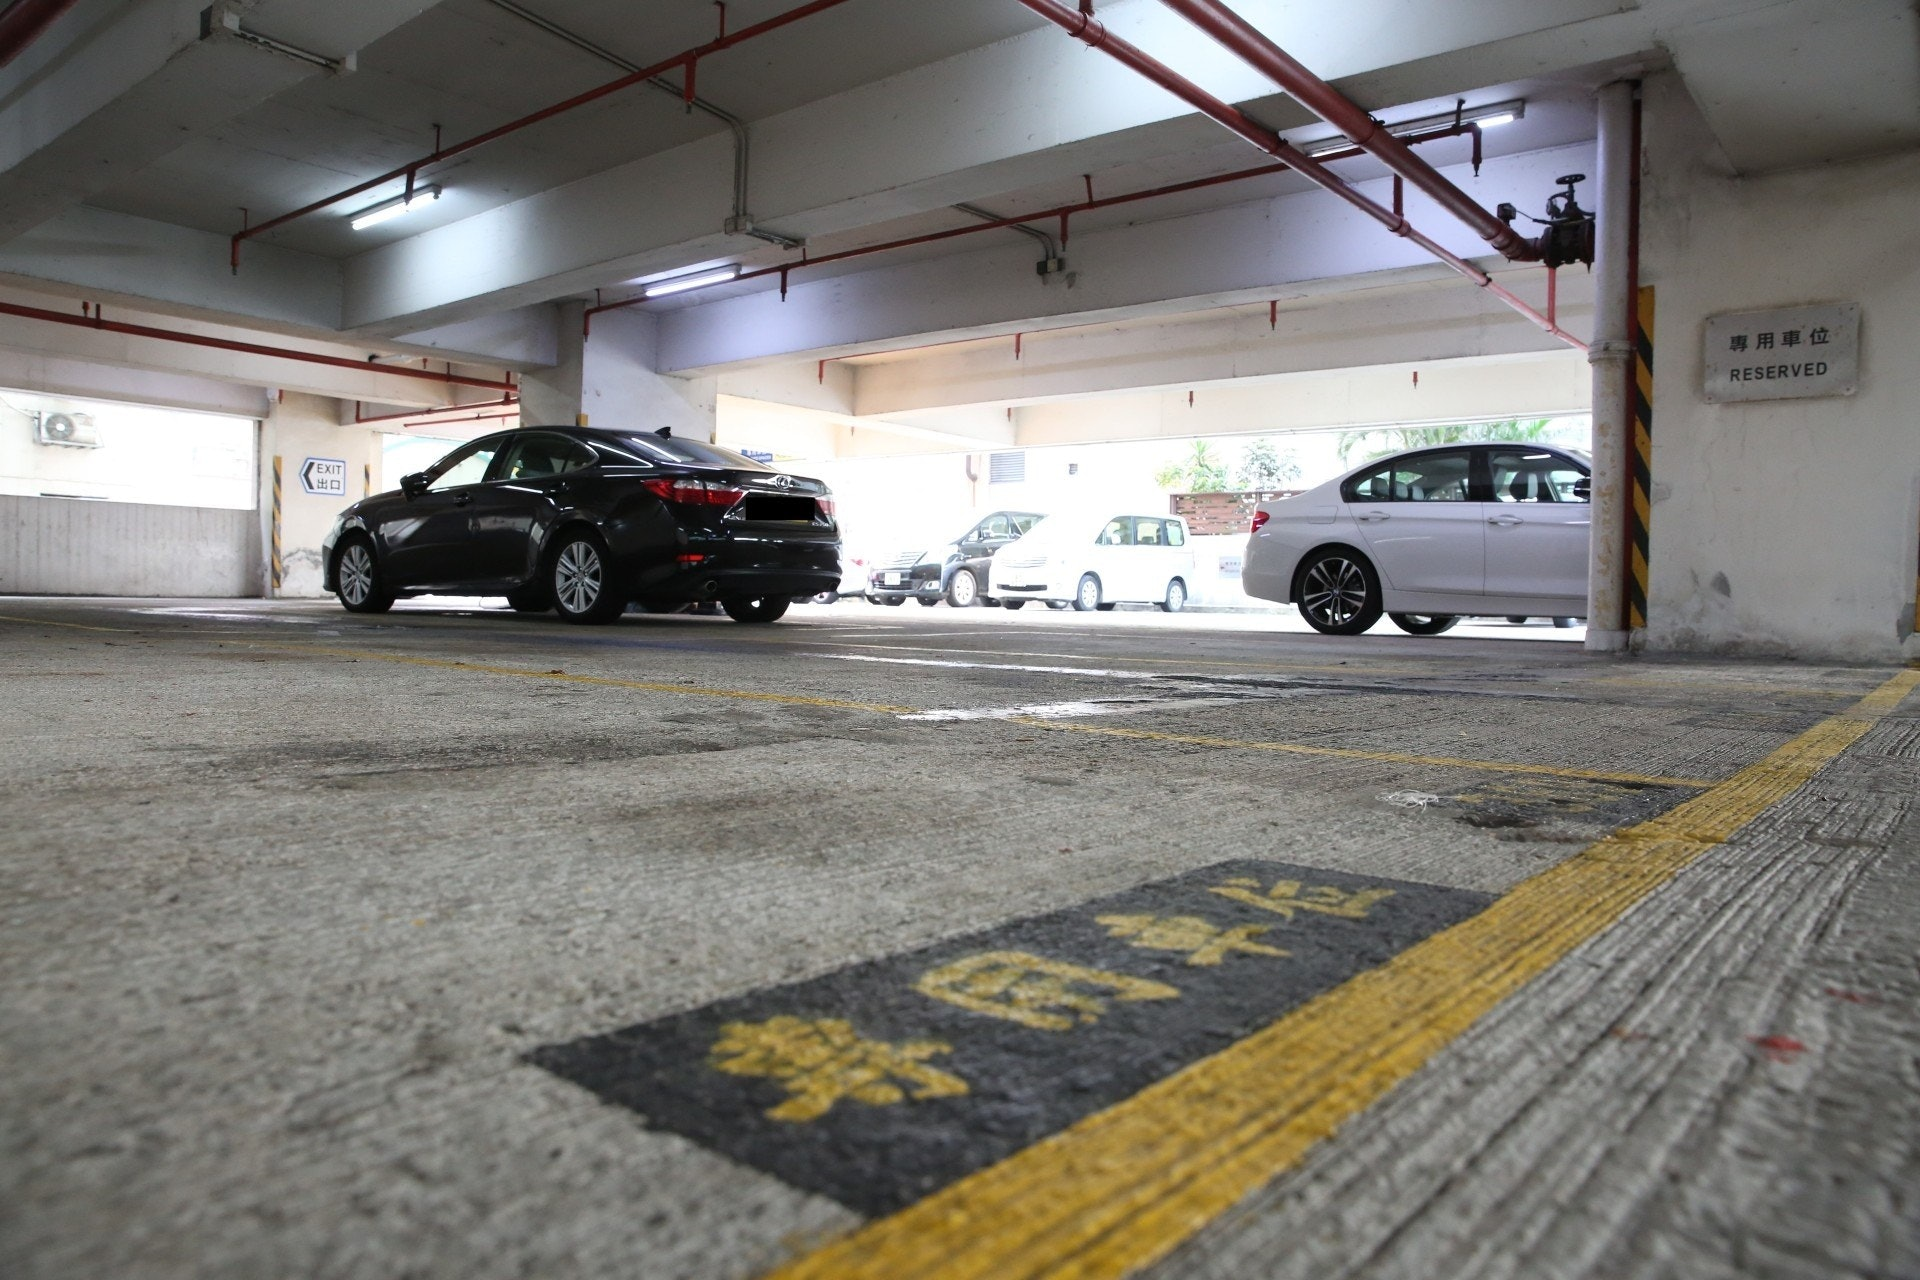car: (301, 414, 851, 629), (1236, 406, 1586, 647), (991, 506, 1211, 617), (866, 513, 1039, 601)
